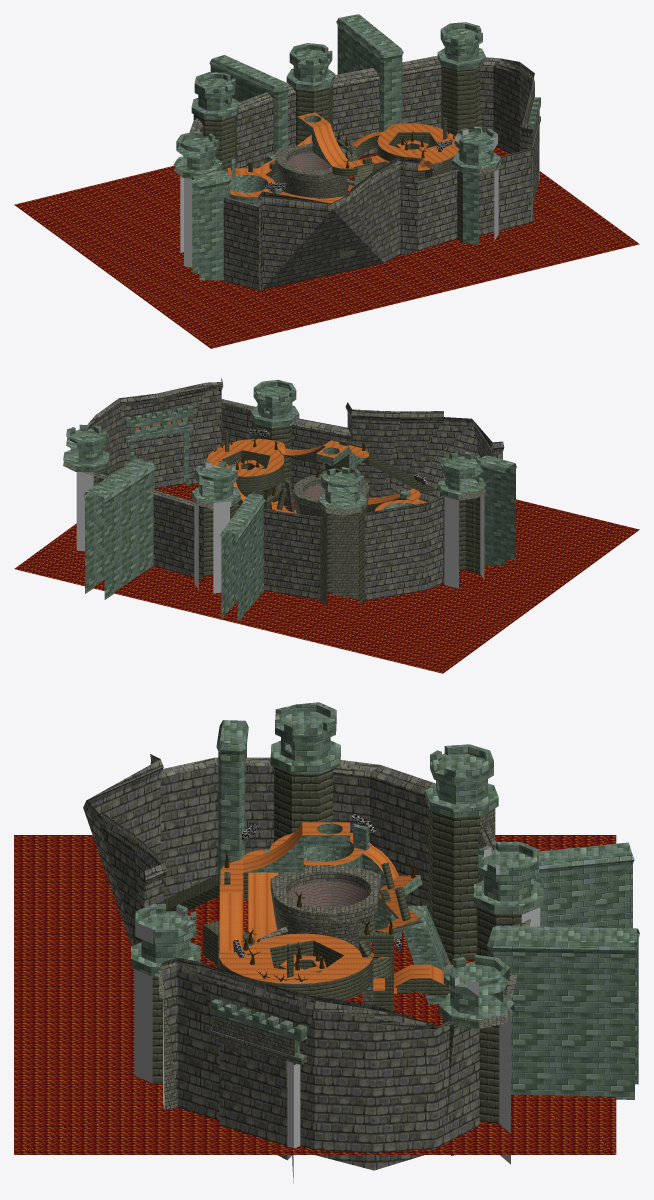
3 views of the same model, one above another, from view 1: azimuth 30°, elevation 25°; view 2: azimuth 150°, elevation 25°; view 3: azimuth 270°, elevation 25° (orthographic). The views are drawn at different scales.
Parts seen in each view (by area): view 1: perplexus_CT_v8-SKP-Material4, perplexus_CT_v8-SKP-Material1, perplexus_CT_v8-SKP-Material5, perplexus_CT_v8-SKP-Material7, perplexus_CT_v8-SKP-road, perplexus_CT_v8-SKP-wall, perplexus_CT_v8-SKP-wall_brown_, perplexus_CT_v8-SKP-Default_Material, perplexus_CT_v8-SKP-Green_wall, perplexus_CT_v8-SKP-drop_wall; view 2: perplexus_CT_v8-SKP-Material4, perplexus_CT_v8-SKP-Material1, perplexus_CT_v8-SKP-Material5, perplexus_CT_v8-SKP-wall, perplexus_CT_v8-SKP-Material7, perplexus_CT_v8-SKP-Default_Material, perplexus_CT_v8-SKP-wall_brown_, perplexus_CT_v8-SKP-road, perplexus_CT_v8-SKP-Green_wall; view 3: perplexus_CT_v8-SKP-Material4, perplexus_CT_v8-SKP-Material5, perplexus_CT_v8-SKP-Material1, perplexus_CT_v8-SKP-Material7, perplexus_CT_v8-SKP-road, perplexus_CT_v8-SKP-wall, perplexus_CT_v8-SKP-wall_brown_, perplexus_CT_v8-SKP-Green_wall, perplexus_CT_v8-SKP-Default_Material, perplexus_CT_v8-SKP-drop_wall.
Boxes of the visible parts, bbox=[...] form: perplexus_CT_v8-SKP-Material4: bbox=[189, 55, 539, 291]; perplexus_CT_v8-SKP-Material1: bbox=[14, 146, 639, 348]; perplexus_CT_v8-SKP-Material5: bbox=[173, 14, 540, 280]; perplexus_CT_v8-SKP-Material7: bbox=[193, 66, 482, 242]; perplexus_CT_v8-SKP-road: bbox=[227, 112, 459, 203]; perplexus_CT_v8-SKP-wall: bbox=[173, 65, 540, 208]; perplexus_CT_v8-SKP-wall_brown_: bbox=[248, 117, 459, 258]; perplexus_CT_v8-SKP-Default_Material: bbox=[180, 127, 539, 267]; perplexus_CT_v8-SKP-Green_wall: bbox=[230, 115, 331, 205]; perplexus_CT_v8-SKP-drop_wall: bbox=[288, 152, 332, 169]; perplexus_CT_v8-SKP-Material4: bbox=[82, 380, 504, 600]; perplexus_CT_v8-SKP-Material1: bbox=[14, 483, 639, 673]; perplexus_CT_v8-SKP-Material5: bbox=[63, 379, 516, 621]; perplexus_CT_v8-SKP-wall: bbox=[63, 378, 486, 606]; perplexus_CT_v8-SKP-Material7: bbox=[93, 421, 480, 605]; perplexus_CT_v8-SKP-Default_Material: bbox=[67, 425, 484, 593]; perplexus_CT_v8-SKP-wall_brown_: bbox=[206, 430, 434, 512]; perplexus_CT_v8-SKP-road: bbox=[206, 439, 425, 513]; perplexus_CT_v8-SKP-Green_wall: bbox=[316, 447, 414, 509]; perplexus_CT_v8-SKP-Material4: bbox=[83, 754, 530, 1170]; perplexus_CT_v8-SKP-Material5: bbox=[131, 702, 639, 1183]; perplexus_CT_v8-SKP-Material1: bbox=[14, 835, 616, 1154]; perplexus_CT_v8-SKP-Material7: bbox=[152, 767, 521, 1155]; perplexus_CT_v8-SKP-road: bbox=[218, 822, 450, 993]; perplexus_CT_v8-SKP-wall: bbox=[159, 808, 513, 1110]; perplexus_CT_v8-SKP-wall_brown_: bbox=[164, 862, 450, 1011]; perplexus_CT_v8-SKP-Green_wall: bbox=[244, 823, 450, 1004]; perplexus_CT_v8-SKP-Default_Material: bbox=[134, 848, 540, 1164]; perplexus_CT_v8-SKP-drop_wall: bbox=[287, 881, 369, 907].
Size of the model in its own units: 246713 by 83945 by 203975.
13 materials, 12 textured.
